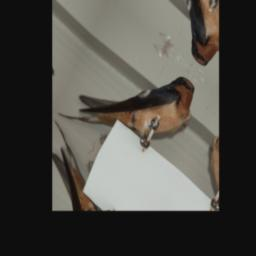Swallow: (57, 7, 200, 193)
